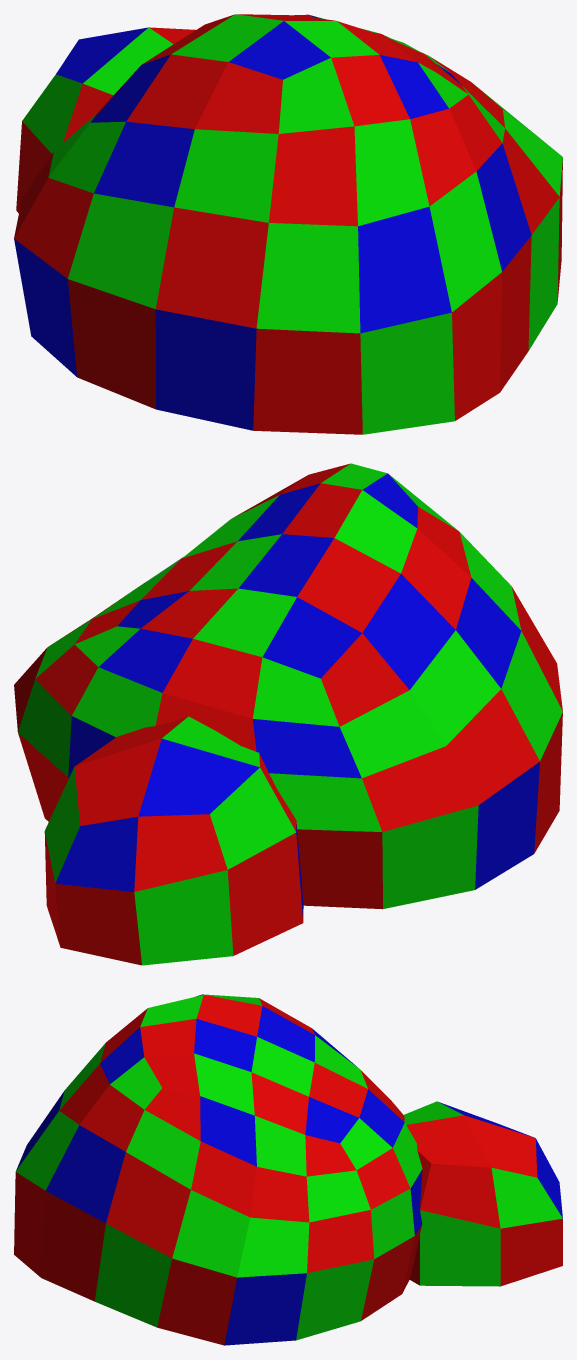
File: Bush_B_02.fbx
The picture shows the model from 3 angles, top to bottom: view 1: azimuth 30°, elevation 25°; view 2: azimuth 150°, elevation 25°; view 3: azimuth 270°, elevation 25°; orthographic projection. The views are drawn at different scales.
Parts seen in each view (by area): view 1: Bush_B_02; view 2: Bush_B_02; view 3: Bush_B_02.
Part boxes in pixels (x1,y1,x2,y2): Bush_B_02: (14,14,562,434); Bush_B_02: (14,463,562,965); Bush_B_02: (14,994,562,1345).
Size of the model in its own units: 1.07 by 0.6527 by 1.34.
